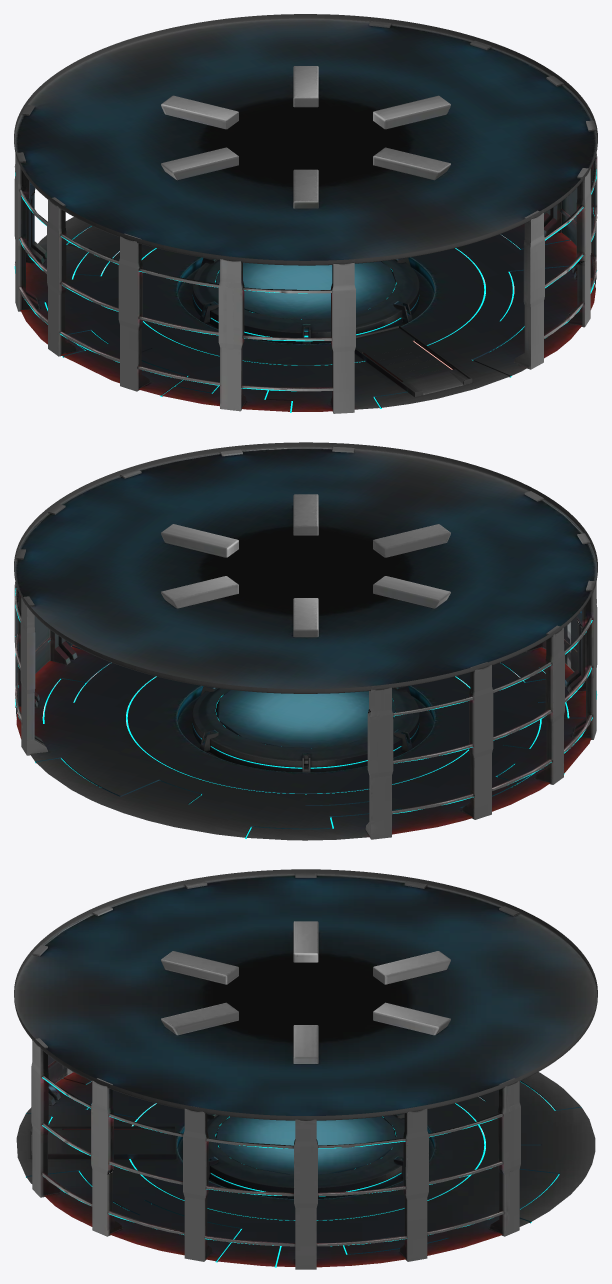
The model's file is platform.glb.
3 renders of one model, top to bottom at view 1: azimuth 30°, elevation 25°; view 2: azimuth 150°, elevation 25°; view 3: azimuth 270°, elevation 25°, orthographic.
Visible parts, largest first — view 1: Black_Ground, Black_Wall, Black_LightUpper, Emissive_Cyan, 3_Wall_Hori_1; view 2: Black_Ground, Black_Wall, Black_LightUpper, Emissive_Cyan; view 3: Black_Ground, Black_Wall, Black_LightUpper, Emissive_Cyan, 3_Wall_Hori_1.
Boxes of the visible parts, left/top/right/bottom form: Black_Ground: left=14, top=14, right=597, bottom=411; Black_Wall: left=14, top=21, right=597, bottom=413; Black_LightUpper: left=161, top=66, right=450, bottom=208; Emissive_Cyan: left=44, top=226, right=524, bottom=412; 3_Wall_Hori_1: left=14, top=169, right=597, bottom=391; Black_Ground: left=14, top=442, right=597, bottom=840; Black_Wall: left=14, top=446, right=597, bottom=839; Black_LightUpper: left=161, top=494, right=450, bottom=637; Emissive_Cyan: left=35, top=664, right=568, bottom=838; Black_Ground: left=14, top=869, right=597, bottom=1267; Black_Wall: left=31, top=873, right=520, bottom=1269; Black_LightUpper: left=161, top=921, right=450, bottom=1063; Emissive_Cyan: left=26, top=1081, right=559, bottom=1267; 3_Wall_Hori_1: left=42, top=1077, right=496, bottom=1246.
Size of the model in its own units: 39.76 by 12.38 by 39.74.
Materials: 6 (4 with a texture image).
